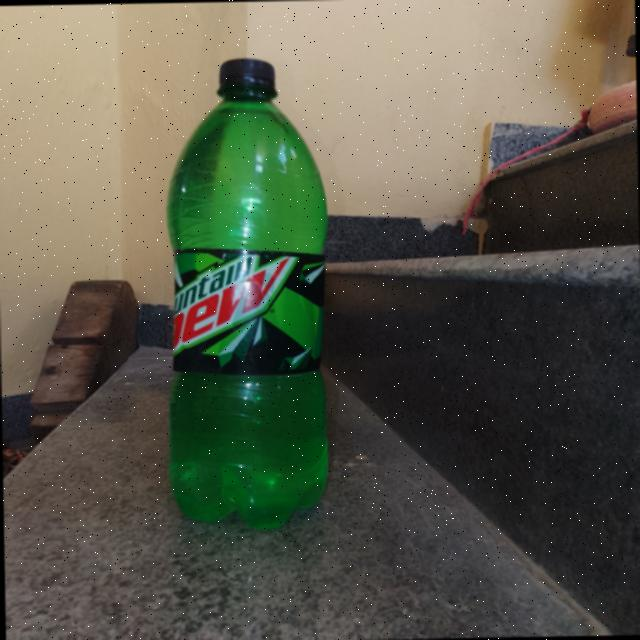bottle: (157, 45, 356, 538)
cap: (211, 56, 289, 100)
label: (182, 243, 324, 377)
